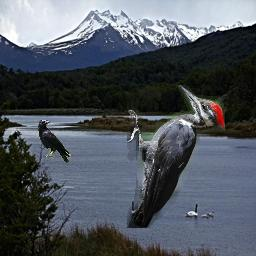Crow: (38, 120, 71, 163)
Woodpecker: (127, 85, 225, 228)
